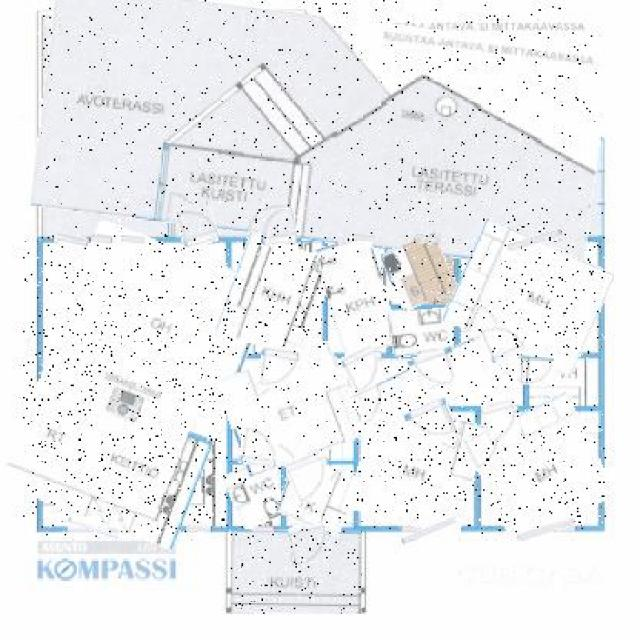door: (406, 402, 457, 448), (288, 454, 329, 500), (409, 349, 458, 386), (343, 346, 383, 391), (177, 205, 217, 248), (258, 348, 298, 390), (240, 428, 280, 468), (289, 526, 329, 566), (483, 322, 522, 362), (258, 209, 297, 246), (483, 402, 519, 442), (517, 357, 554, 386)
window: (400, 522, 458, 540), (508, 230, 563, 248), (517, 521, 574, 537), (66, 522, 120, 536), (55, 234, 88, 246), (415, 233, 440, 244), (118, 237, 144, 246), (186, 525, 211, 532), (91, 236, 112, 244), (354, 236, 375, 242)
zone: (37, 0, 605, 254), (23, 232, 251, 537), (451, 231, 606, 363), (474, 401, 606, 534), (223, 349, 357, 469), (354, 404, 480, 530), (352, 340, 520, 422), (223, 238, 331, 356), (229, 529, 362, 614), (323, 237, 394, 355), (280, 458, 355, 531), (388, 237, 455, 308), (228, 462, 283, 526), (391, 310, 452, 356)
